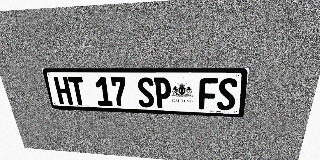1: (94, 77, 113, 106)
7: (109, 77, 128, 107)
F: (199, 78, 218, 110)
H: (53, 77, 73, 105)
P: (154, 77, 171, 108)
S: (217, 78, 238, 111), (137, 77, 155, 108)
T: (68, 77, 87, 105)
